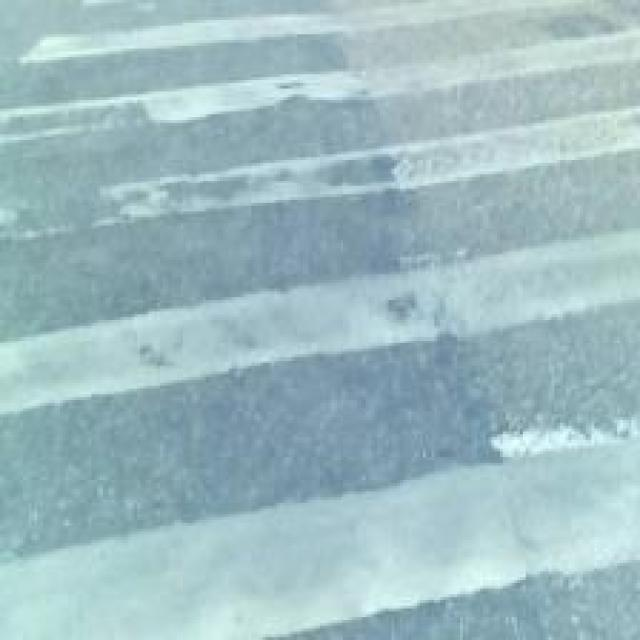walk-crossing: (23, 20, 620, 631)
